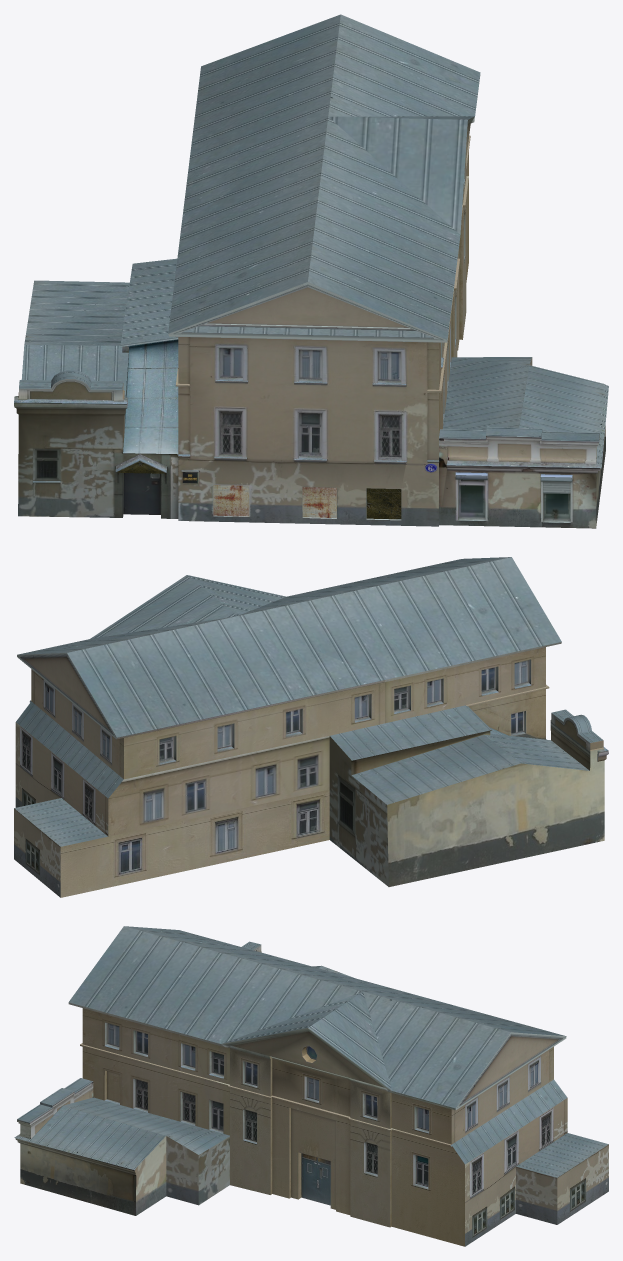
Rendered from old_house.obj.
3 renders of one model, top to bottom at view 1: azimuth 30°, elevation 25°; view 2: azimuth 150°, elevation 25°; view 3: azimuth 270°, elevation 25°, orthographic. The views are drawn at different scales.
Parts seen in each view (by area): view 1: Object_Volhonka6A_jpg, Object_Volhonka6A_alfa_jpg; view 2: Object_Volhonka6A_jpg; view 3: Object_Volhonka6A_jpg.
Boxes of the visible parts, <box> form: Object_Volhonka6A_jpg: <box>14,14,608,528</box>; Object_Volhonka6A_alfa_jpg: <box>117,461,401,519</box>; Object_Volhonka6A_jpg: <box>14,557,608,897</box>; Object_Volhonka6A_jpg: <box>14,926,608,1246</box>.
Size of the model in its own units: 50.56 by 19.75 by 58.76.
